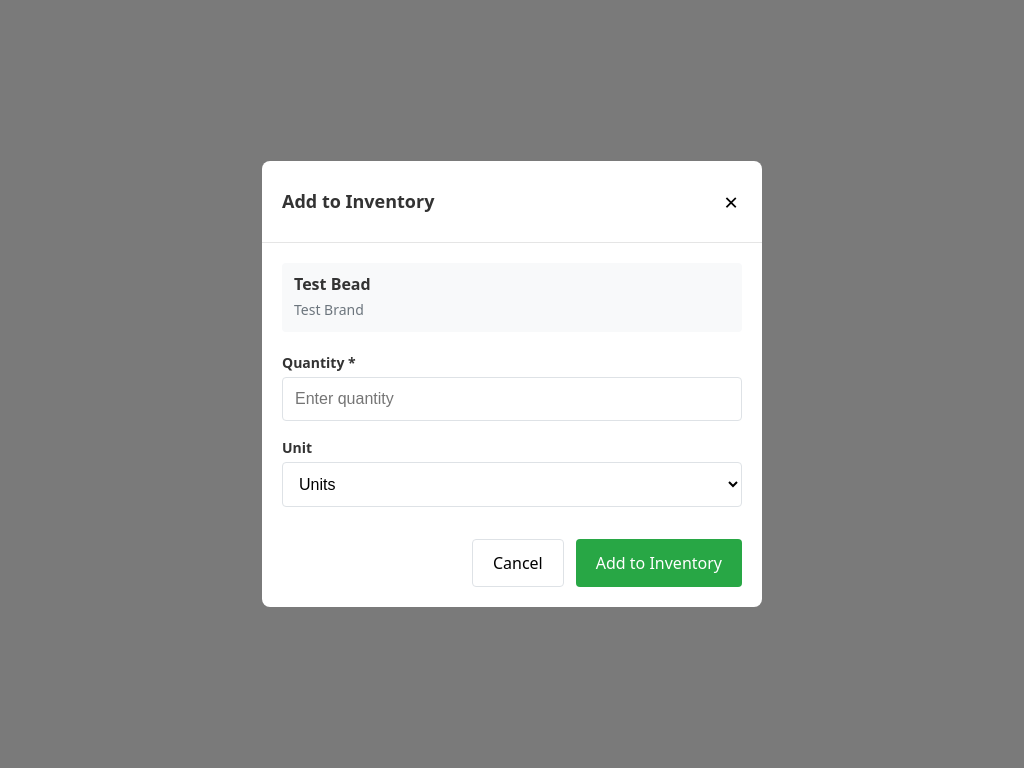
Test: AddToInventoryModal › validates quantity input
The width and height of the screenshot is (1024, 768).
# Submit without quantity
Click the button "Add to Inventory" at (659, 563), box [576,539,742,587]
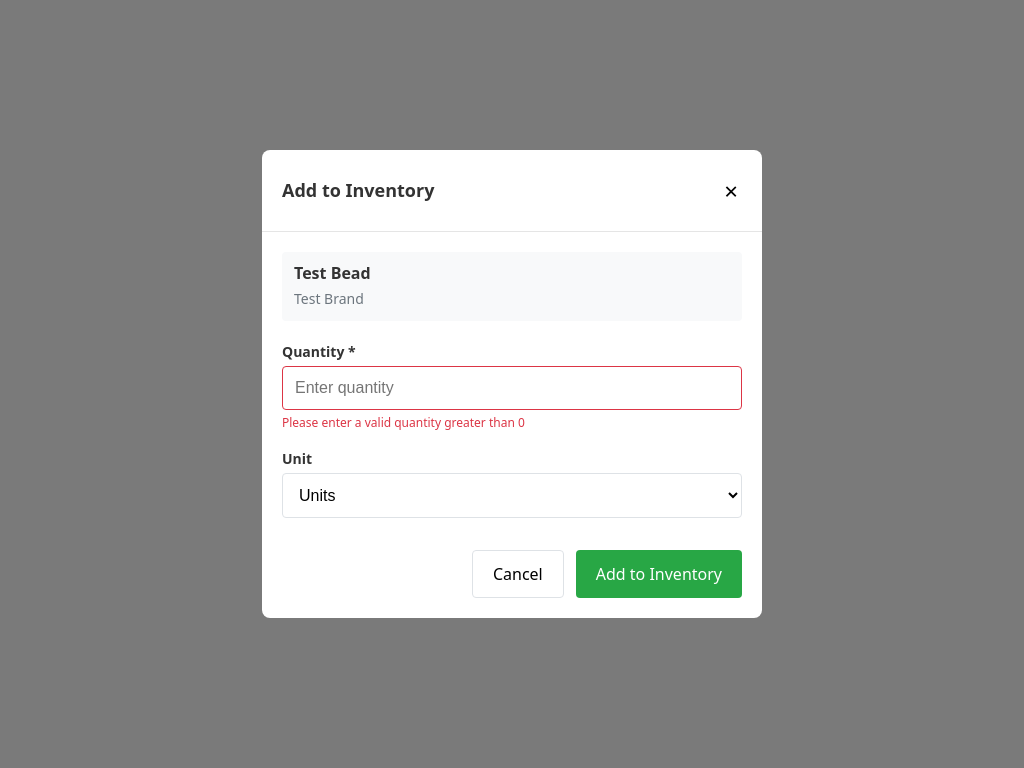
Now the text "Please enter a valid quantity greater than 0" is shown, box [282,414,525,431]
